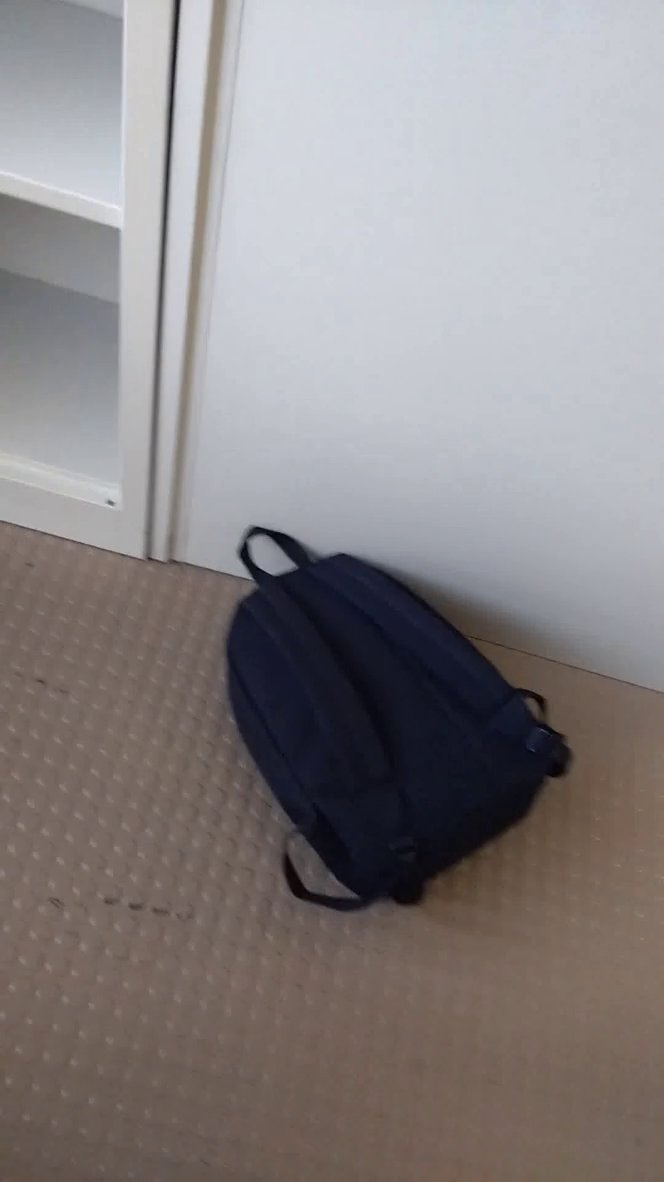bag: (216, 514, 581, 931)
